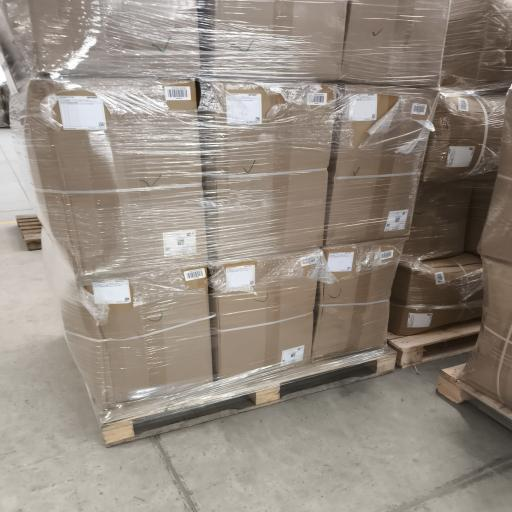pallet: (102, 347, 396, 446), (438, 365, 511, 430), (388, 319, 481, 367), (15, 214, 42, 250)
